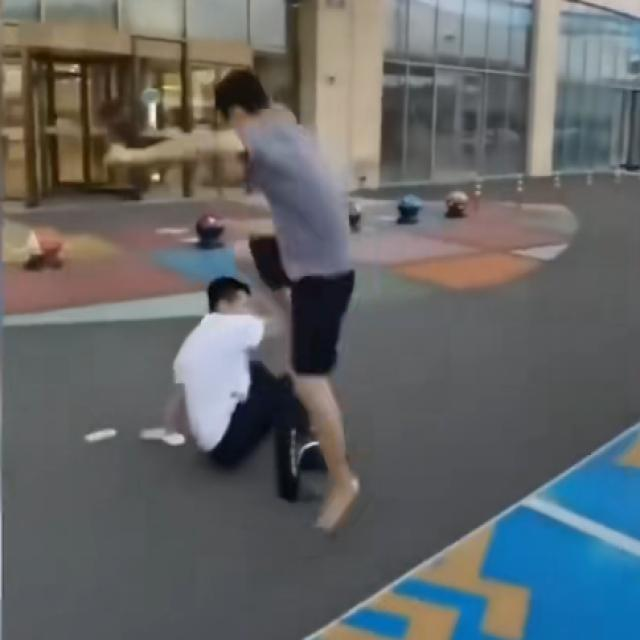fight: (156, 224, 362, 532)
